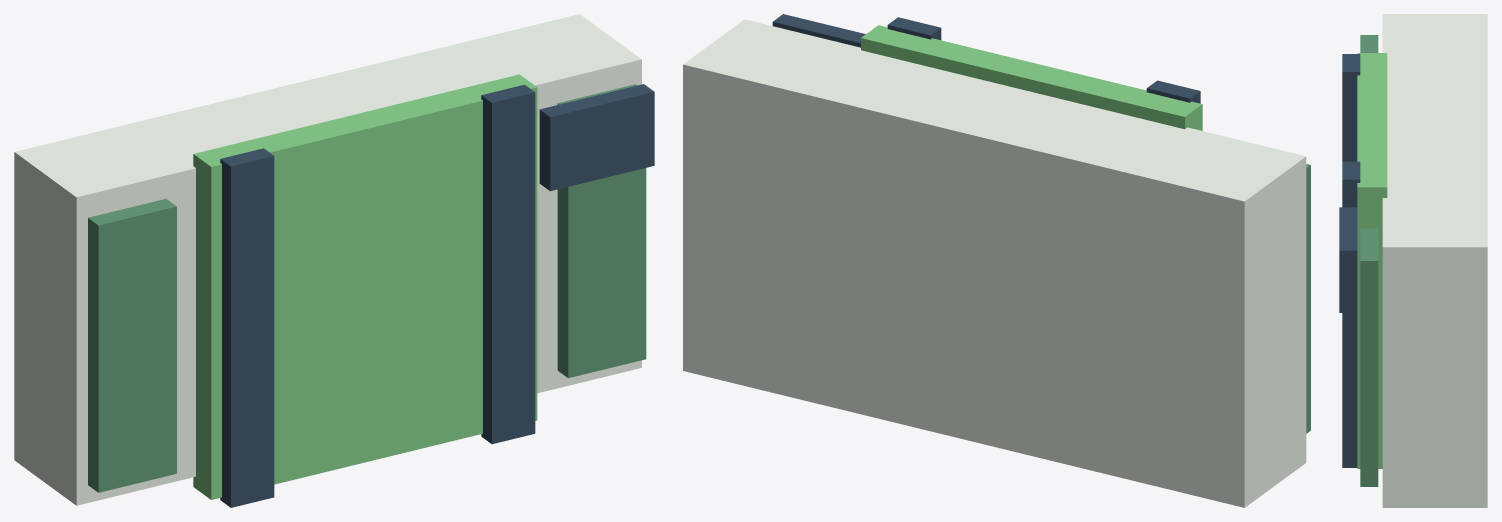
File: eraser.glb
3 renders of one model, left to right at view 1: azimuth 30°, elevation 25°; view 2: azimuth 150°, elevation 25°; view 3: azimuth 270°, elevation 25°, orthographic. The views are drawn at different scales.
Parts seen in each view (by area): view 1: eraser; view 2: eraser; view 3: eraser.
Part boxes in pixels (x1,y1,x2,y2): eraser: (14, 14, 654, 507); eraser: (683, 14, 1310, 507); eraser: (1339, 14, 1487, 507).
Size of the model in its own units: 0.13 by 0.075 by 0.035.
